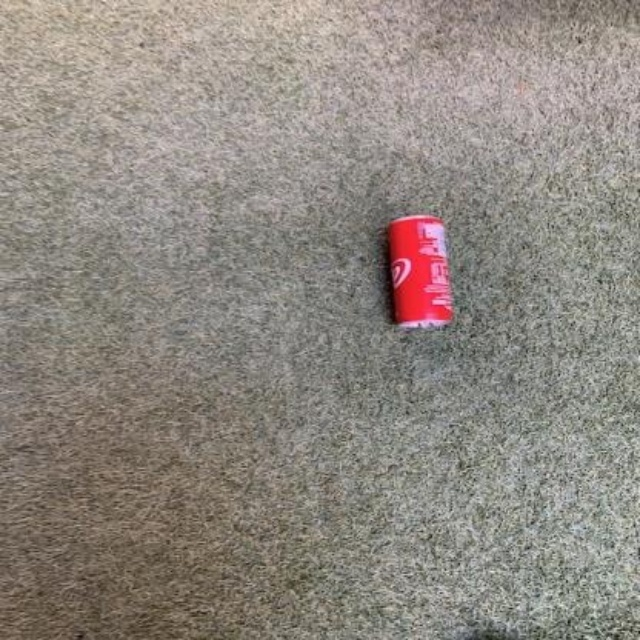trash: (389, 215, 451, 326)
